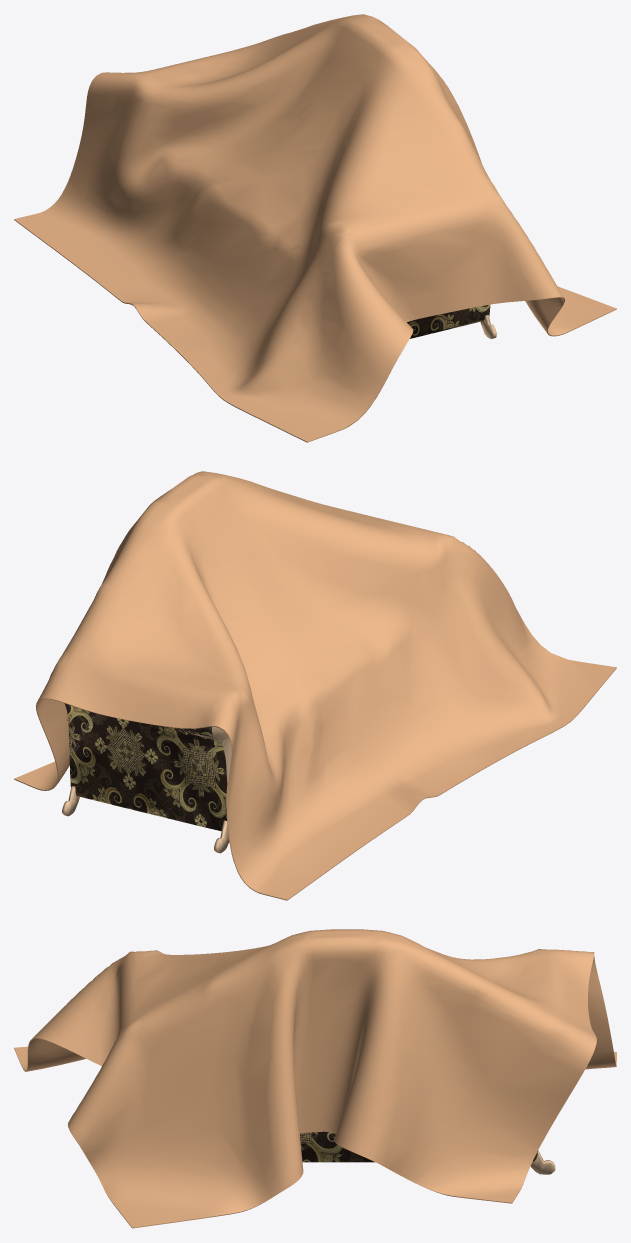
Rendered from диван.FBX.
3 renders of one model, top to bottom at view 1: azimuth 30°, elevation 25°; view 2: azimuth 150°, elevation 25°; view 3: azimuth 270°, elevation 25°, orthographic. The views are drawn at different scales.
Visible parts, largest first — view 1: Plane109, диван; view 2: Plane109, диван; view 3: Plane109, диван.
Part boxes in pixels (x1,y1,x2,y2): Plane109: (14, 14, 616, 442); диван: (407, 304, 496, 338); Plane109: (14, 471, 616, 900); диван: (62, 703, 231, 853); Plane109: (14, 929, 616, 1228); диван: (300, 1131, 555, 1174).
Size of the model in its own units: 1477 by 856 by 1988.
